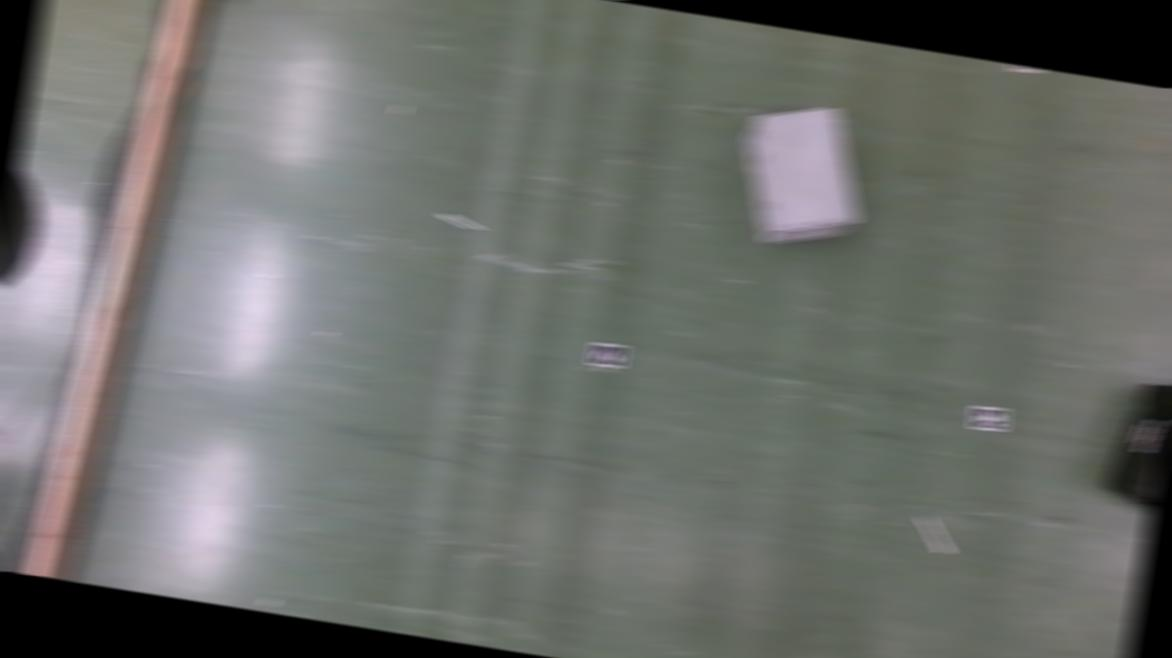probes: (916, 516, 954, 554), (438, 211, 480, 230)
rako: (729, 96, 876, 258), (1098, 373, 1172, 517)
